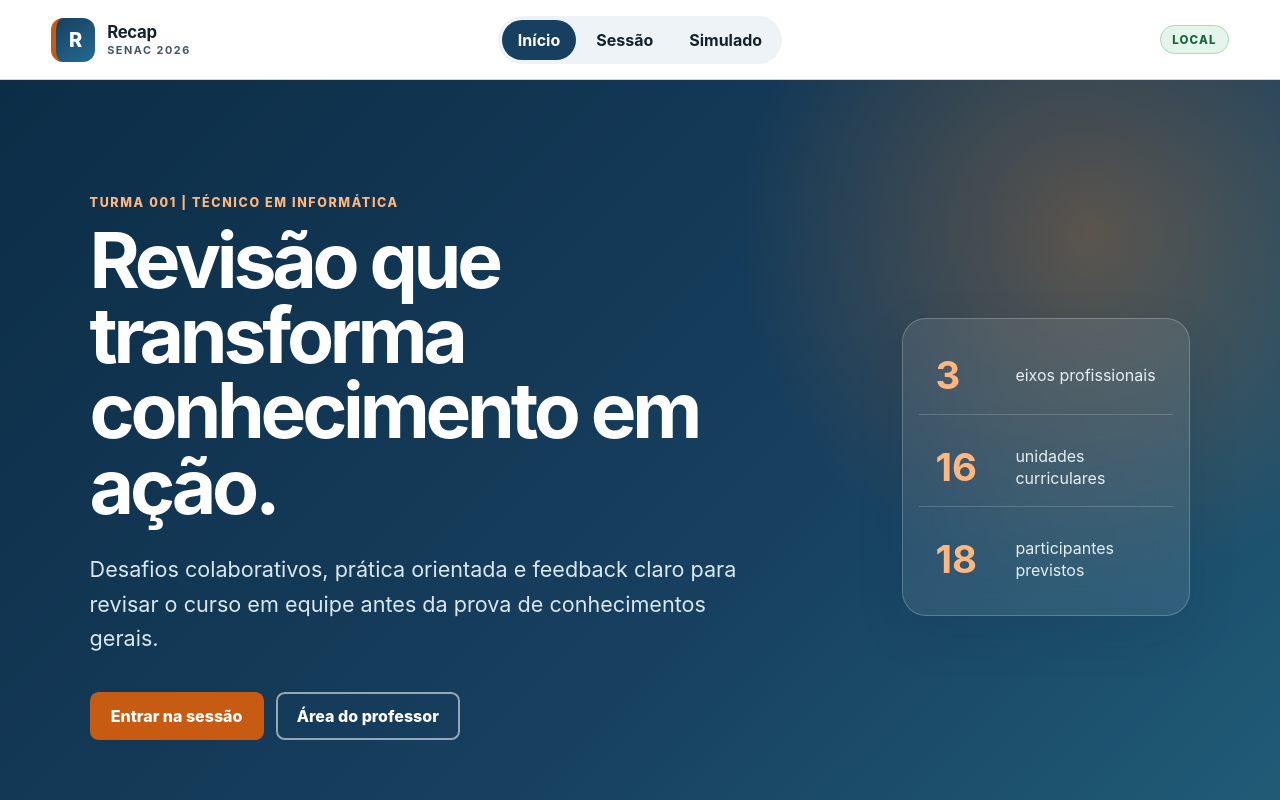
Scenario: App › shows the traceable team activity after a participant enters a session
The image size is (1280, 800).
Step 1. Click the button "Entrar na sessão" → (177, 716), box [90,692,264,740]
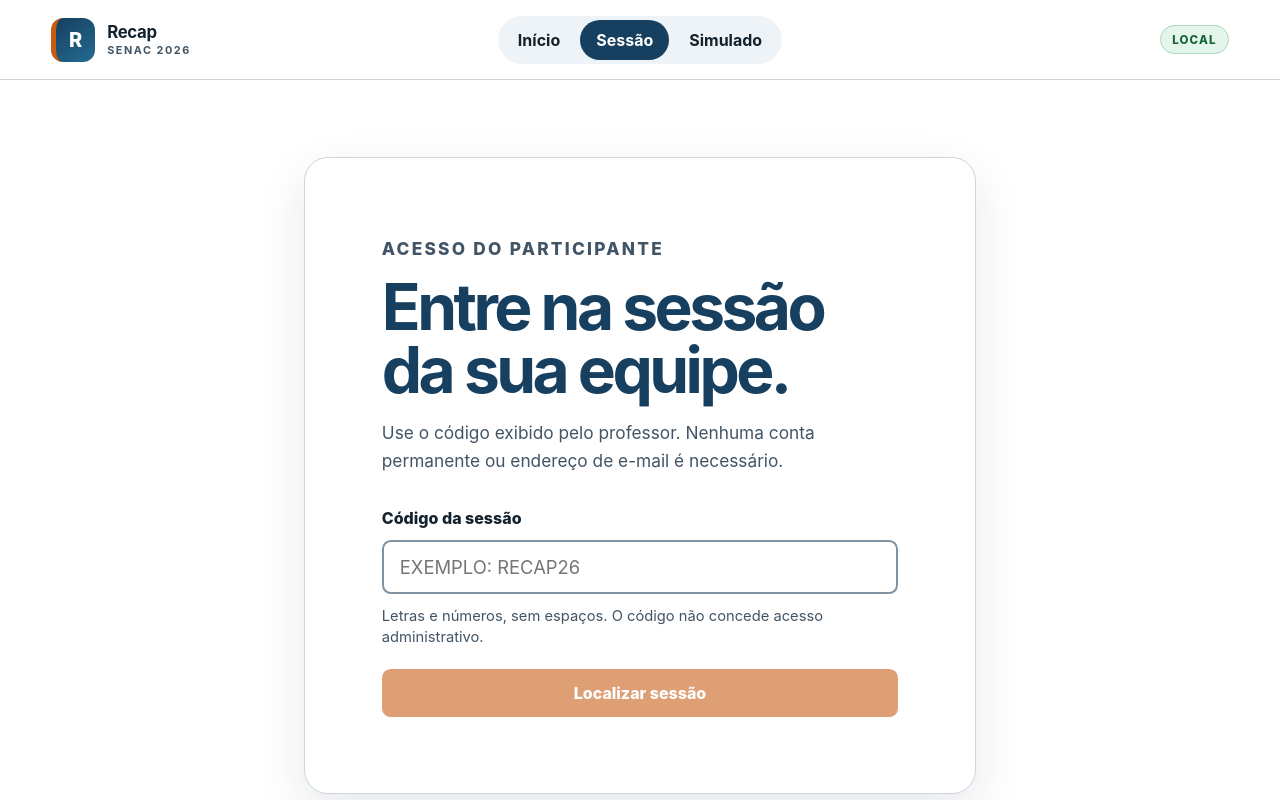
Step 2. Type "ABCD2345" into the field labelled "Código da sessão" → (640, 567), box [382,540,898,594]
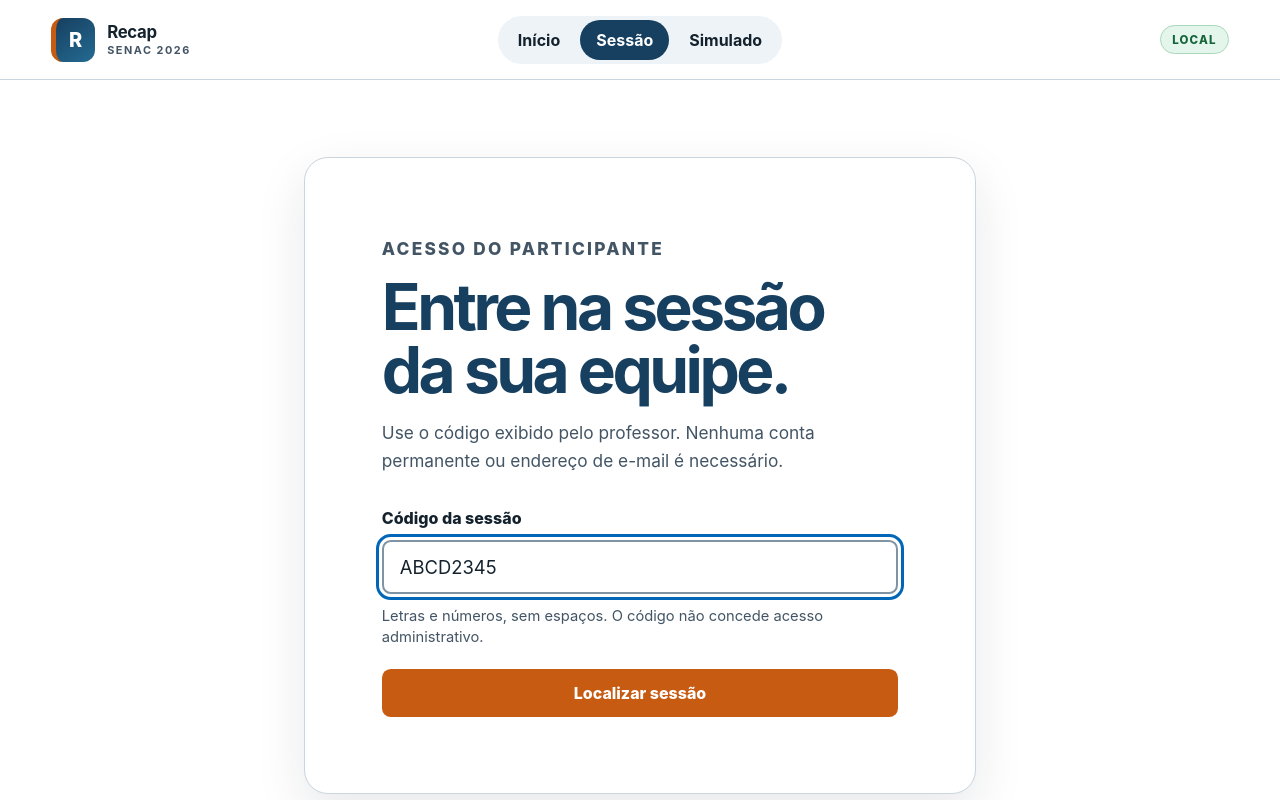
Step 3. Click the button "Localizar sessão" → (640, 693), box [382,669,898,717]
(page scrolled)
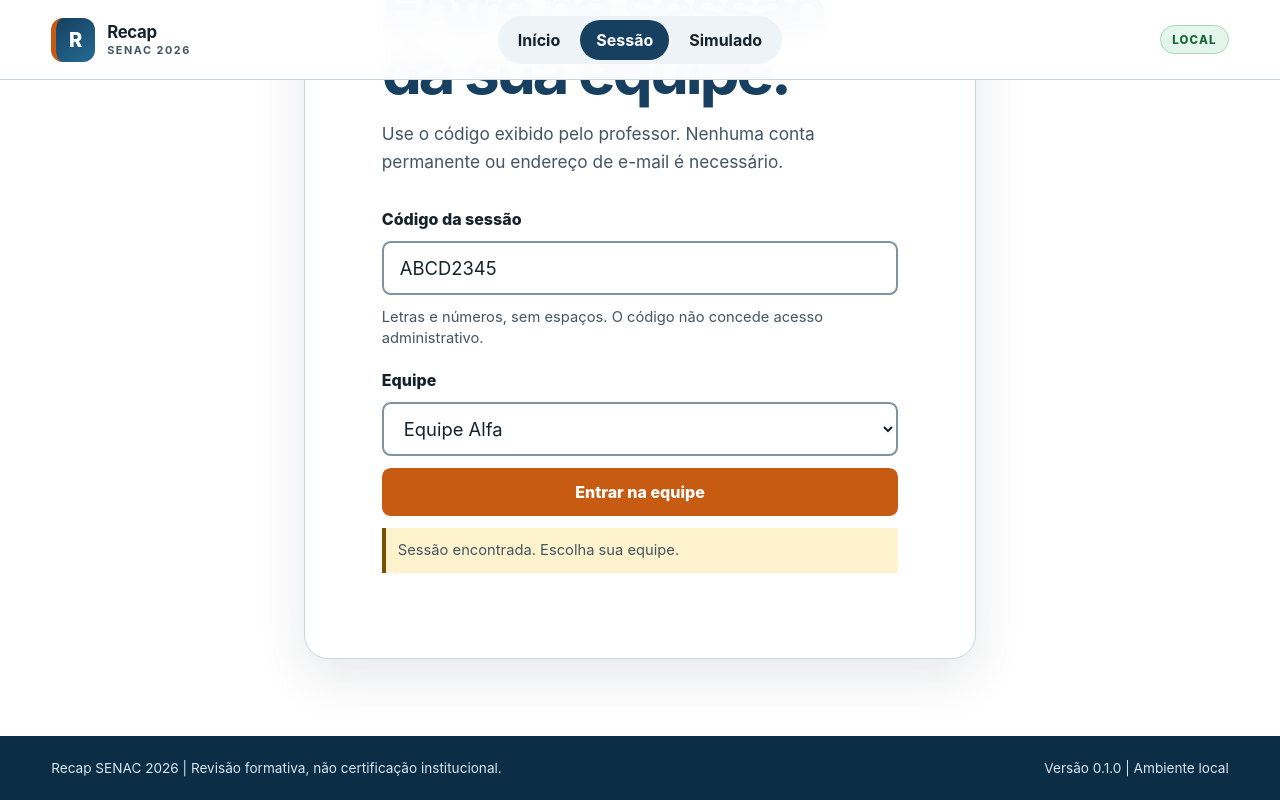
Step 4. Click the button "Entrar na equipe" → (640, 492), box [382,468,898,516]
(page scrolled)
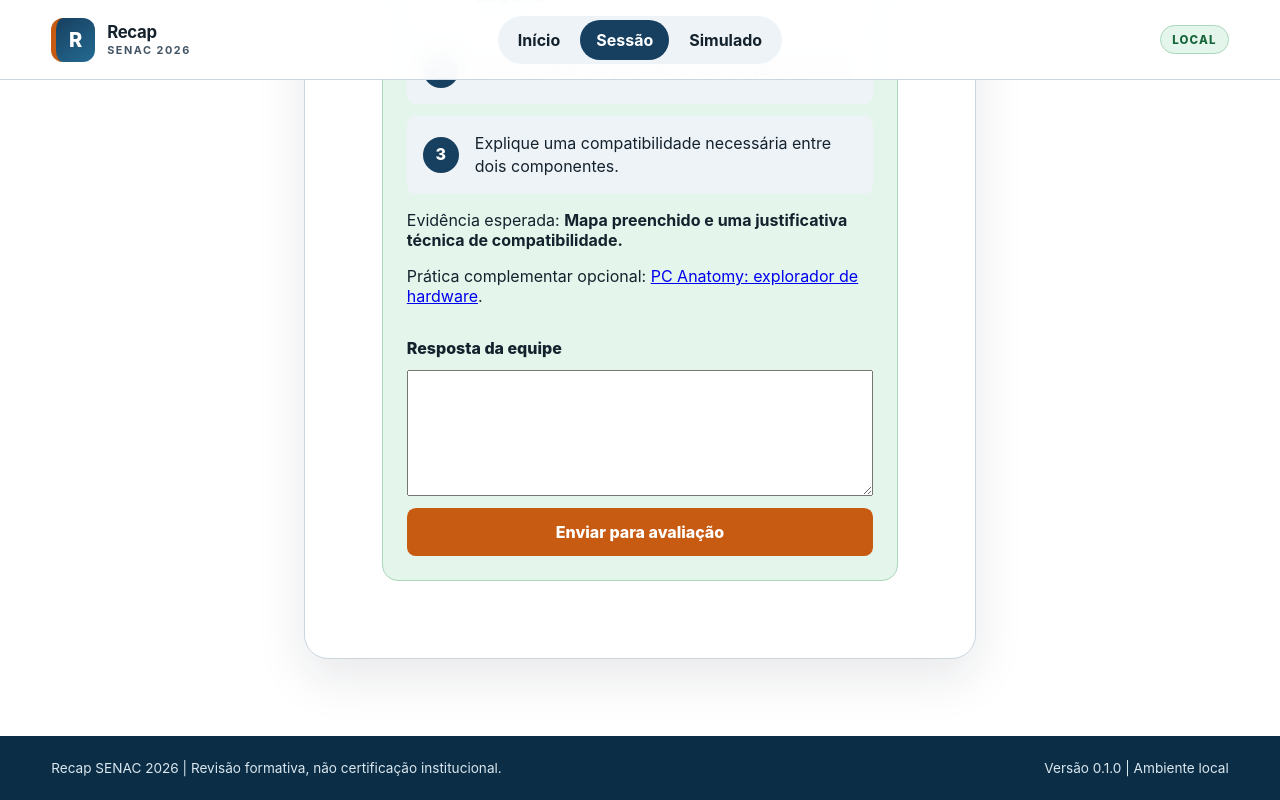
Expected: the text box labelled "Resposta da equipe" is shown, [407,370,873,496]
